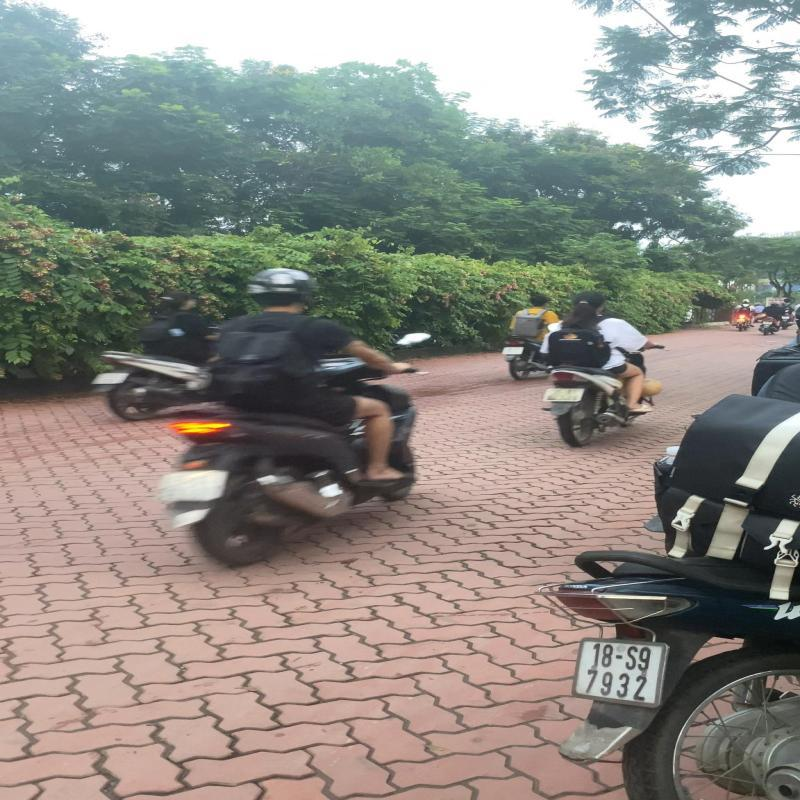licenseplate: (544, 388, 584, 402)
motorcyclist: (537, 290, 669, 448)
nohelmet: (573, 292, 605, 312)
